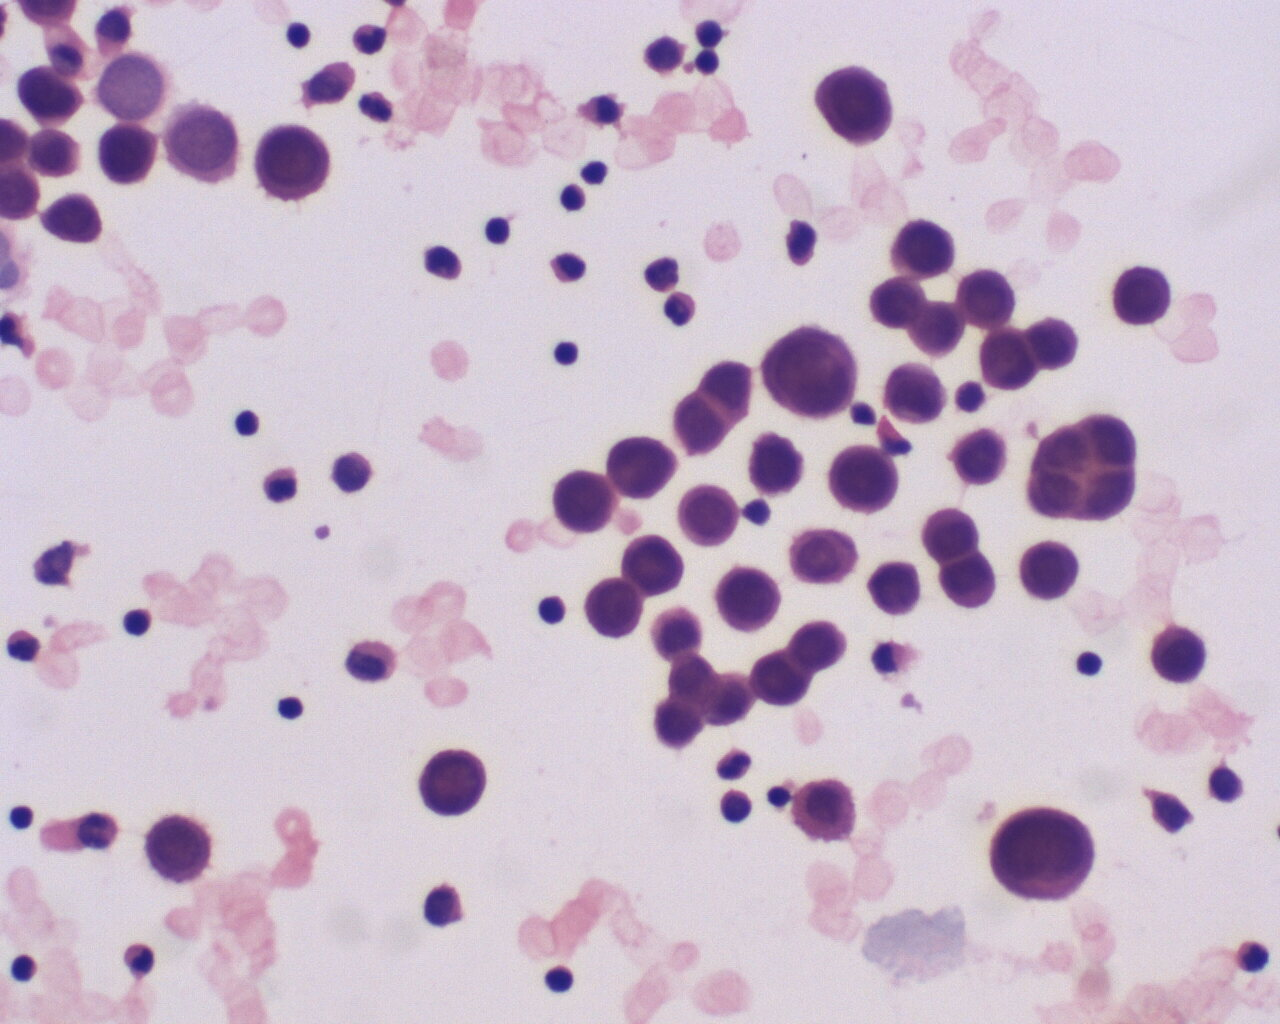ab: (1019, 415, 1140, 534), (981, 805, 1107, 910), (761, 318, 867, 422), (247, 117, 339, 203), (813, 64, 897, 149), (821, 444, 906, 517), (1143, 618, 1220, 696), (890, 210, 970, 286), (413, 740, 488, 819), (714, 560, 788, 639), (143, 813, 224, 886), (550, 465, 624, 542), (1108, 262, 1179, 335), (580, 574, 651, 643), (677, 484, 748, 550), (94, 119, 158, 192), (746, 645, 817, 709), (950, 266, 1017, 334), (975, 318, 1038, 390), (19, 62, 87, 127), (606, 436, 676, 499), (34, 186, 104, 249), (944, 424, 1009, 490), (863, 556, 926, 619), (1016, 538, 1081, 597), (624, 535, 684, 597)
lymph: (478, 211, 523, 254), (1071, 644, 1113, 686), (226, 403, 271, 443), (541, 954, 578, 1000), (281, 16, 320, 59), (3, 794, 39, 835), (273, 690, 310, 725)
neutro: (258, 464, 305, 507), (344, 17, 390, 60), (6, 624, 39, 666)
